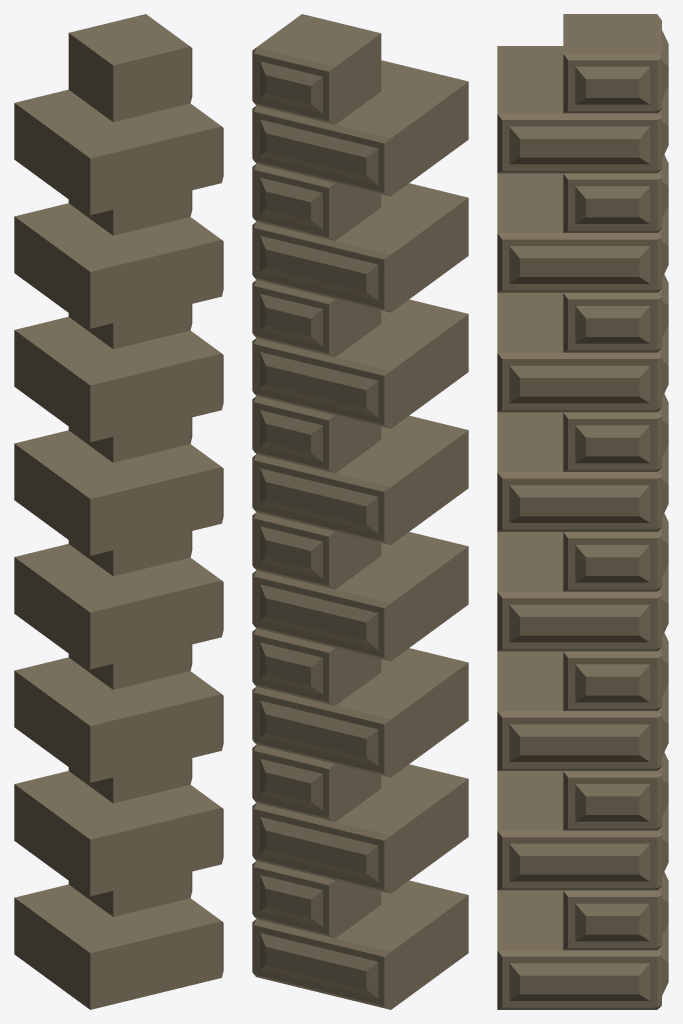
File: CornerStone.fbx
3 views of the same model, side by side, from view 1: azimuth 30°, elevation 25°; view 2: azimuth 150°, elevation 25°; view 3: azimuth 270°, elevation 25° (orthographic). The views are drawn at different scales.
Parts seen in each view (by area): view 1: CornerStone; view 2: CornerStone; view 3: CornerStone.
Boxes of the visible parts, x1,y1,x2,y2 form: CornerStone: (14, 14, 223, 1009); CornerStone: (252, 14, 468, 1009); CornerStone: (497, 14, 668, 1009).
Size of the model in its own units: 26 by 160 by 26.
